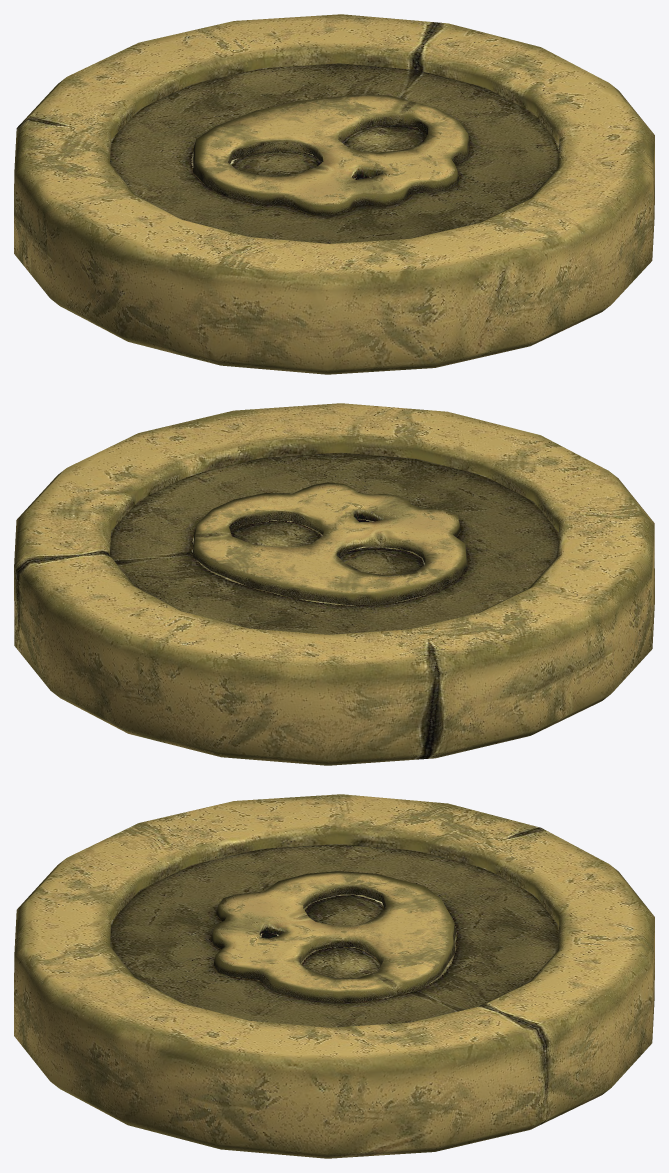
The model's file is coin.glb.
3 views of the same model, one above another, from view 1: azimuth 30°, elevation 25°; view 2: azimuth 150°, elevation 25°; view 3: azimuth 270°, elevation 25° (orthographic).
Visible parts, largest first — view 1: Object_2; view 2: Object_2; view 3: Object_2.
Part boxes in pixels (x1,y1,x2,y2): Object_2: (14,14,654,374); Object_2: (14,403,654,765); Object_2: (14,794,654,1158).
Bounding box in the file's own units: 0.0387 × 0.00662 × 0.0383.
Materials: 1 (1 with a texture image).
